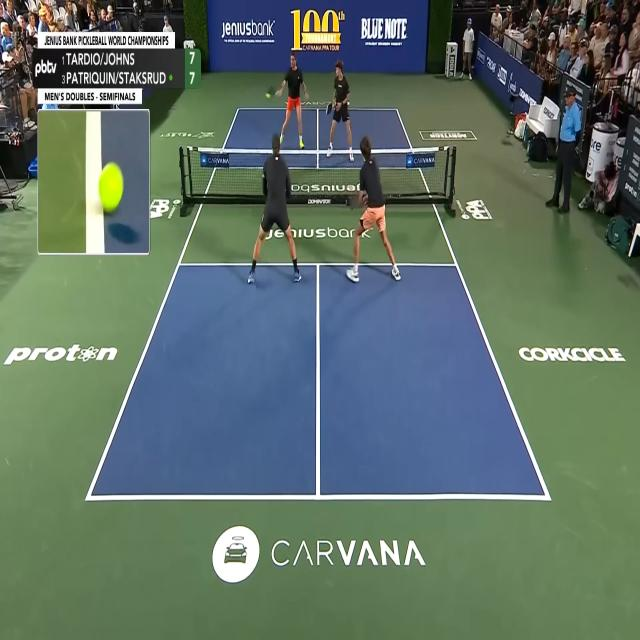ball: (265, 92, 271, 99)
